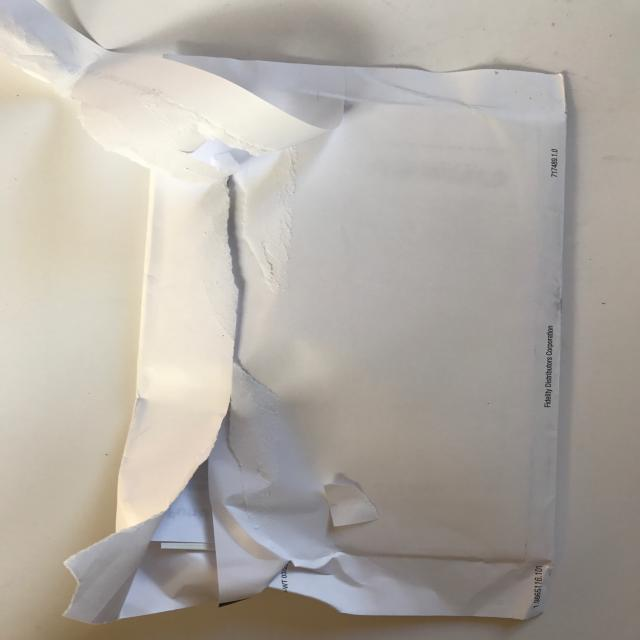paper: (2, 1, 570, 624)
